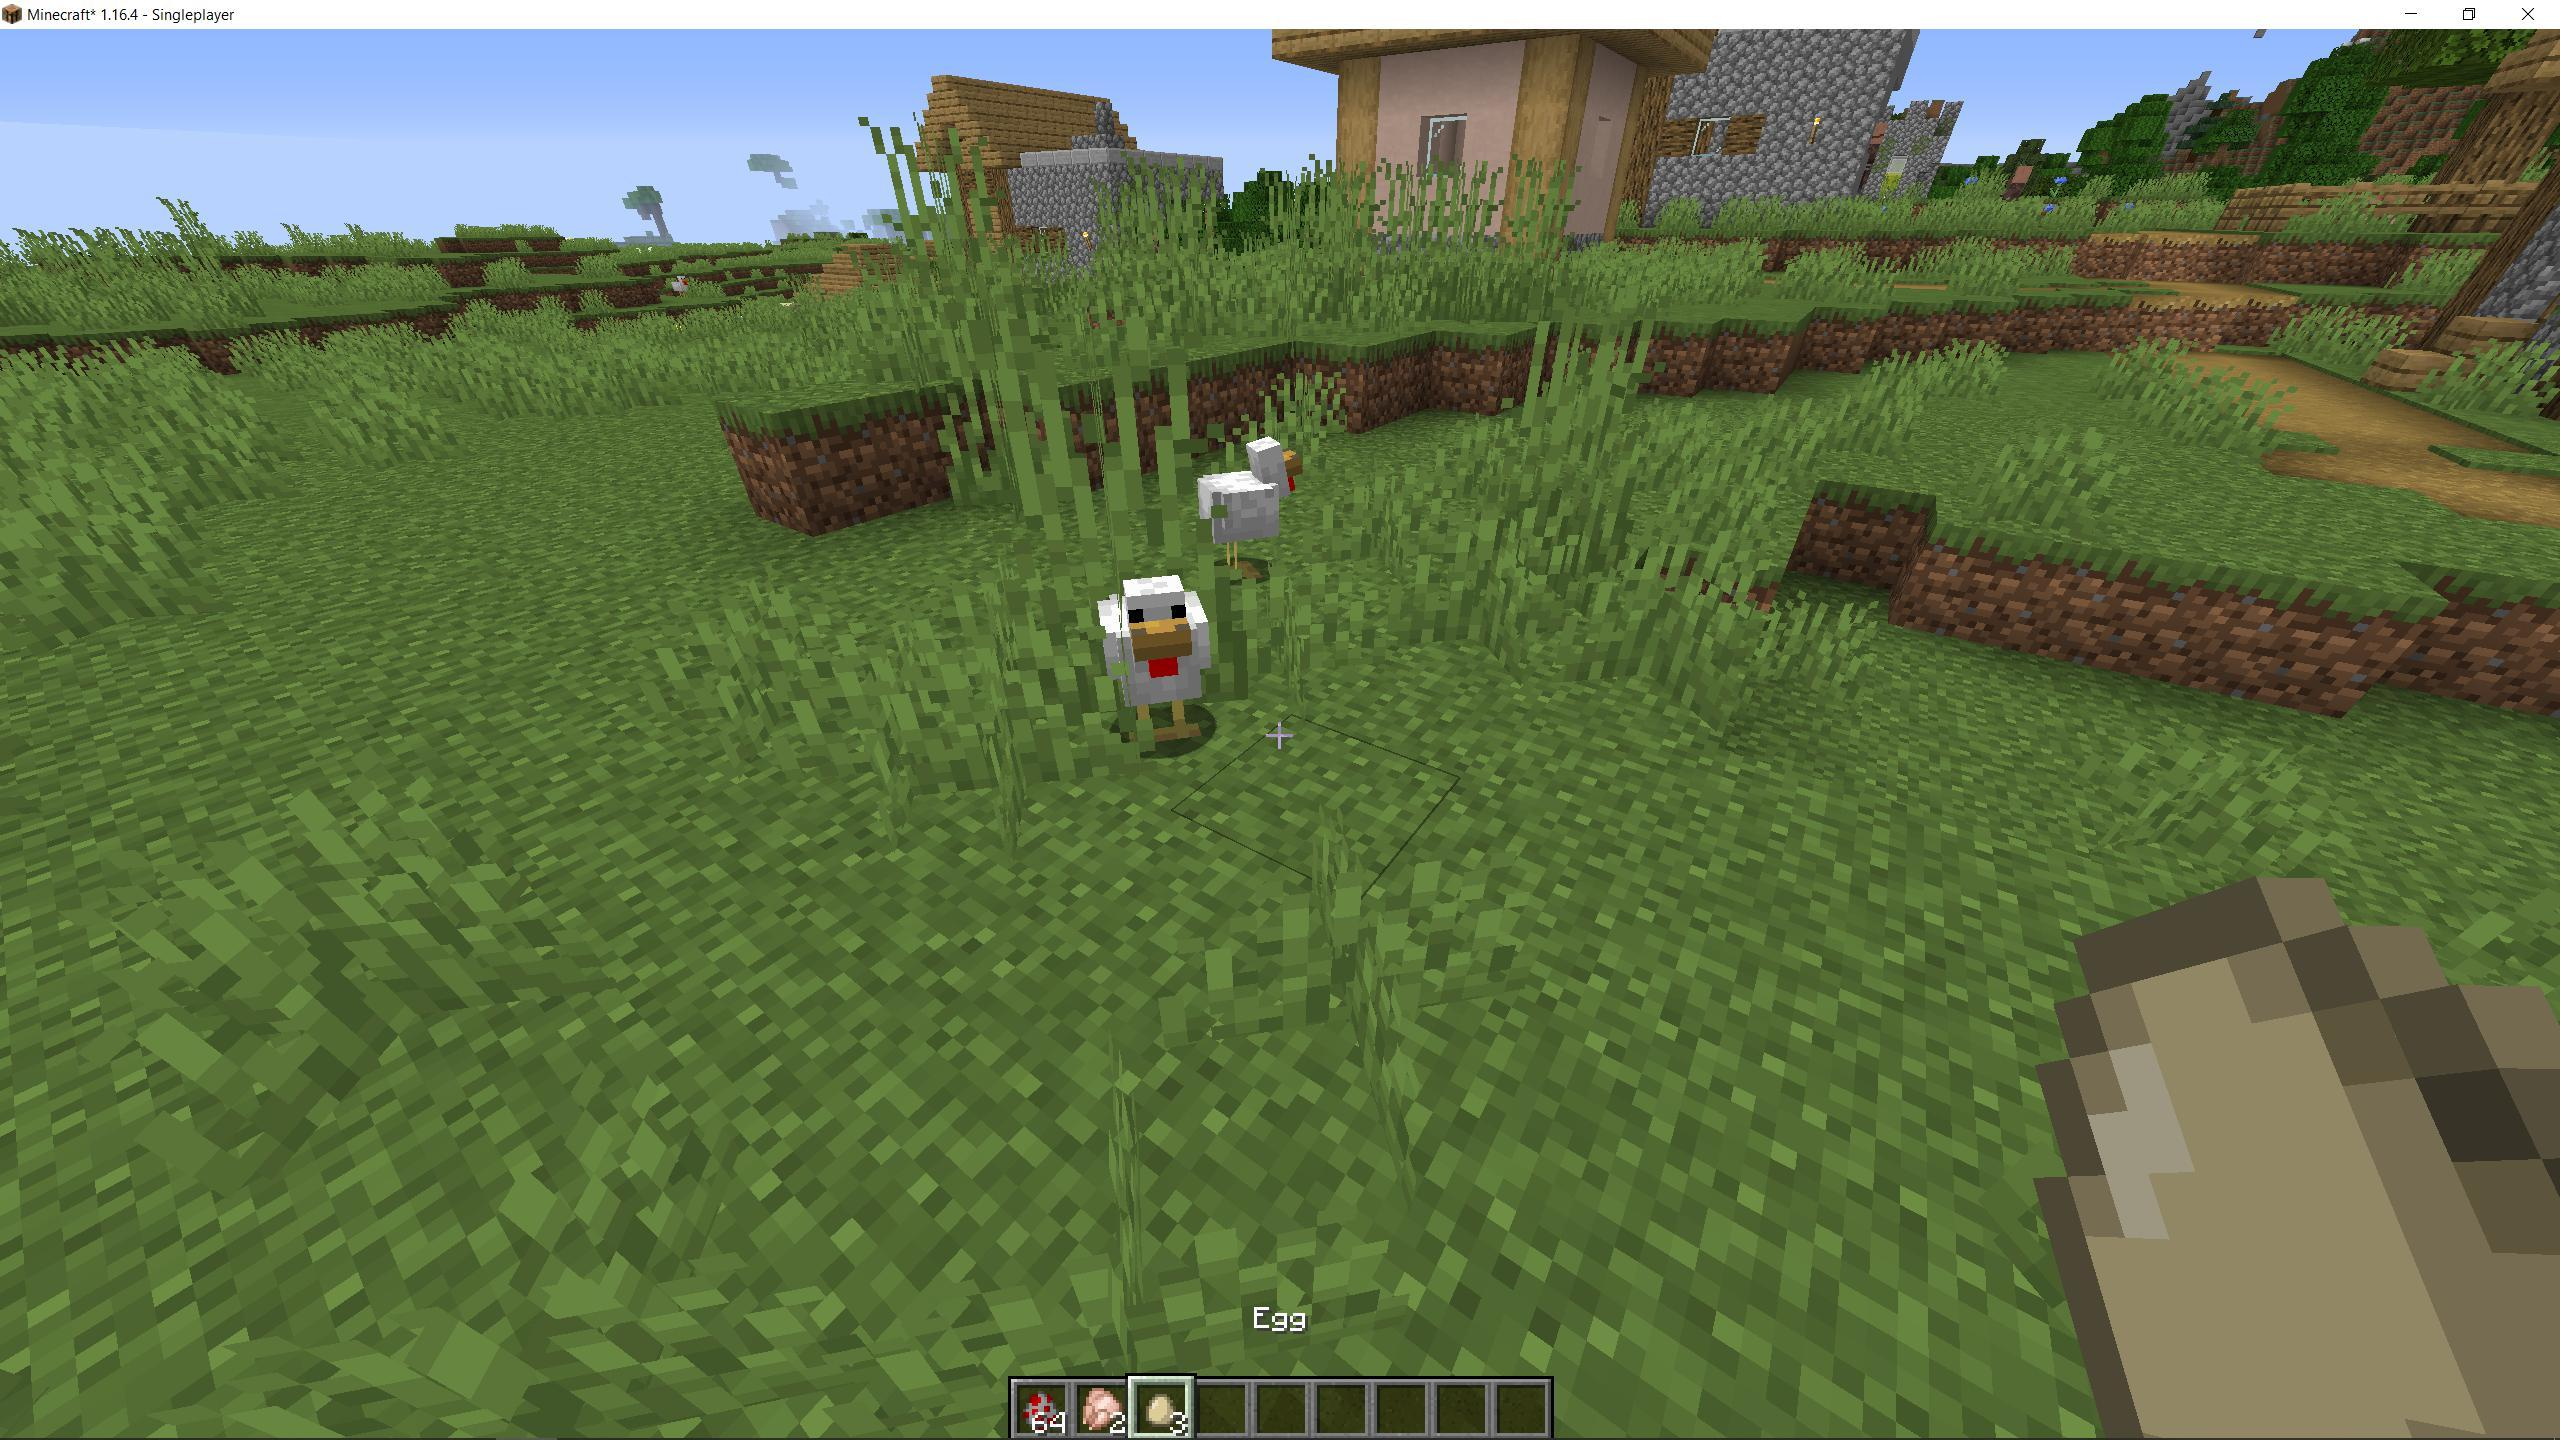chicken: (1088, 570, 1245, 765), (1190, 438, 1308, 585)
